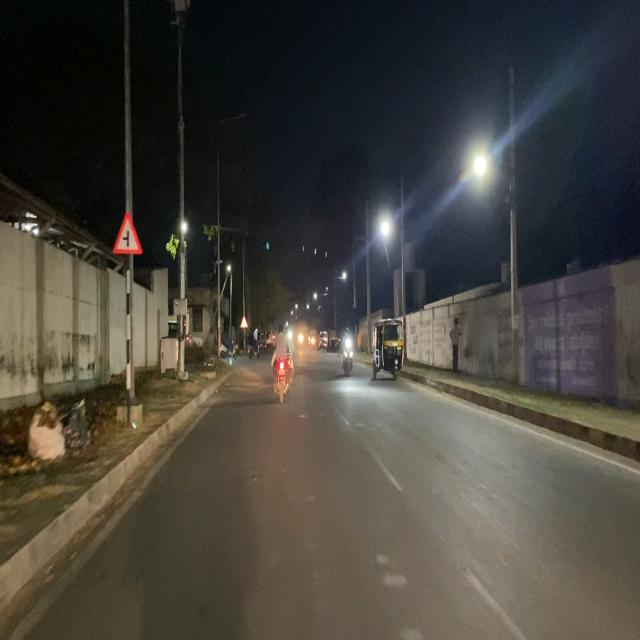bien_cam: (111, 210, 142, 256)
